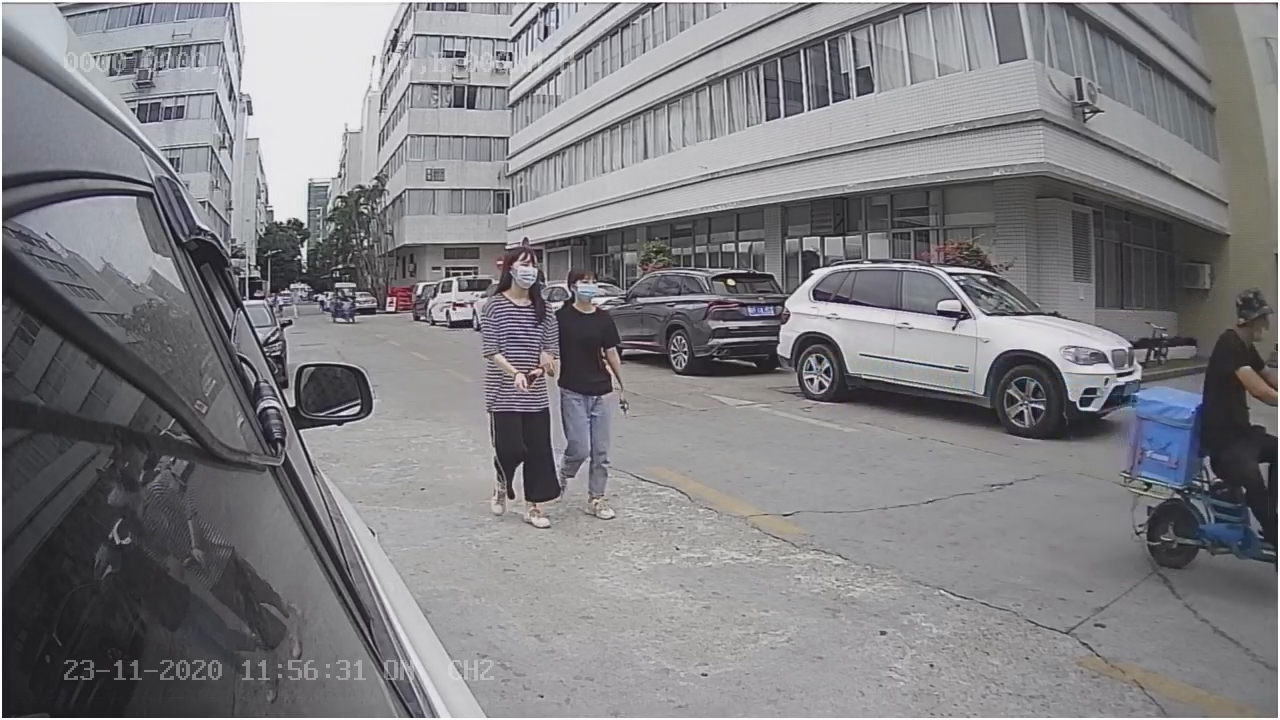person: (476, 244, 550, 531), (555, 262, 633, 528), (1196, 280, 1273, 436)
